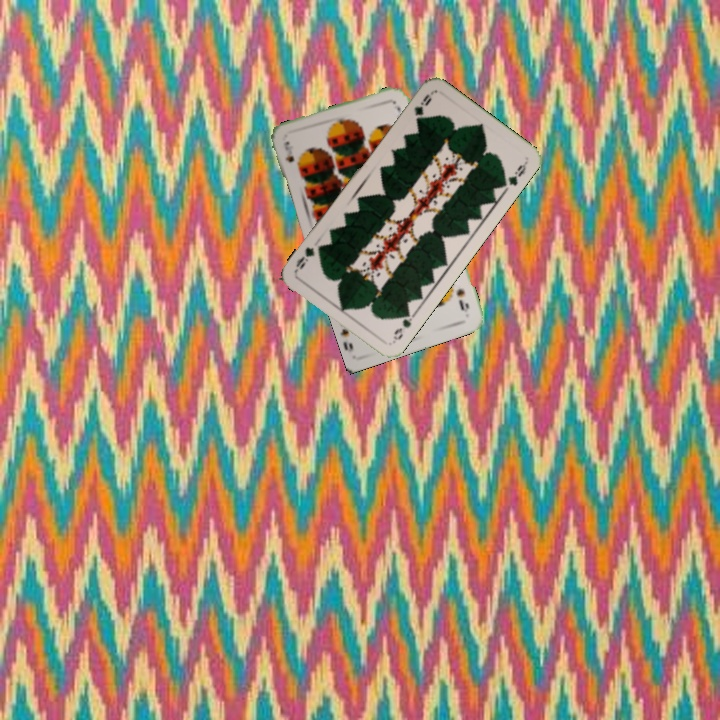G9: (389, 307, 417, 346), (410, 89, 435, 123)
S9: (453, 285, 472, 315), (280, 137, 297, 165)
